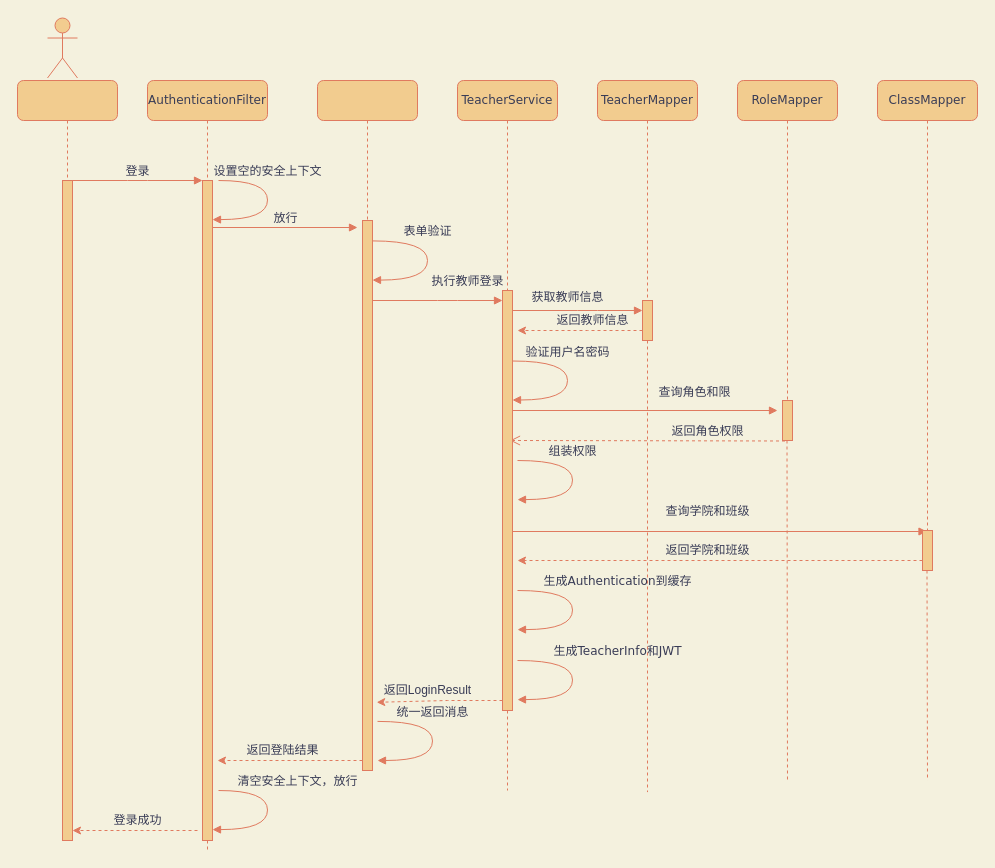
Some shapes in this 995 by 868 pixel diagram are drawn without their labels. The shapes that lost their labels are listed below. From the top down, each one's box as (x1, y1, x2, y2) in pixels, then its label:
(316, 80, 418, 770): UserController
(16, 80, 118, 840): Teacher
